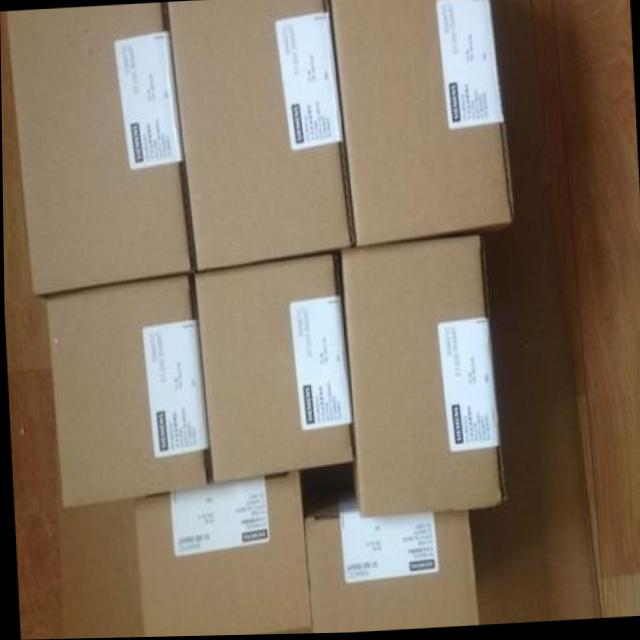box: (6, 2, 196, 297), (168, 0, 354, 272), (340, 239, 507, 518), (329, 0, 513, 249), (45, 275, 211, 508), (194, 253, 355, 485), (132, 474, 309, 638), (303, 483, 478, 635)
